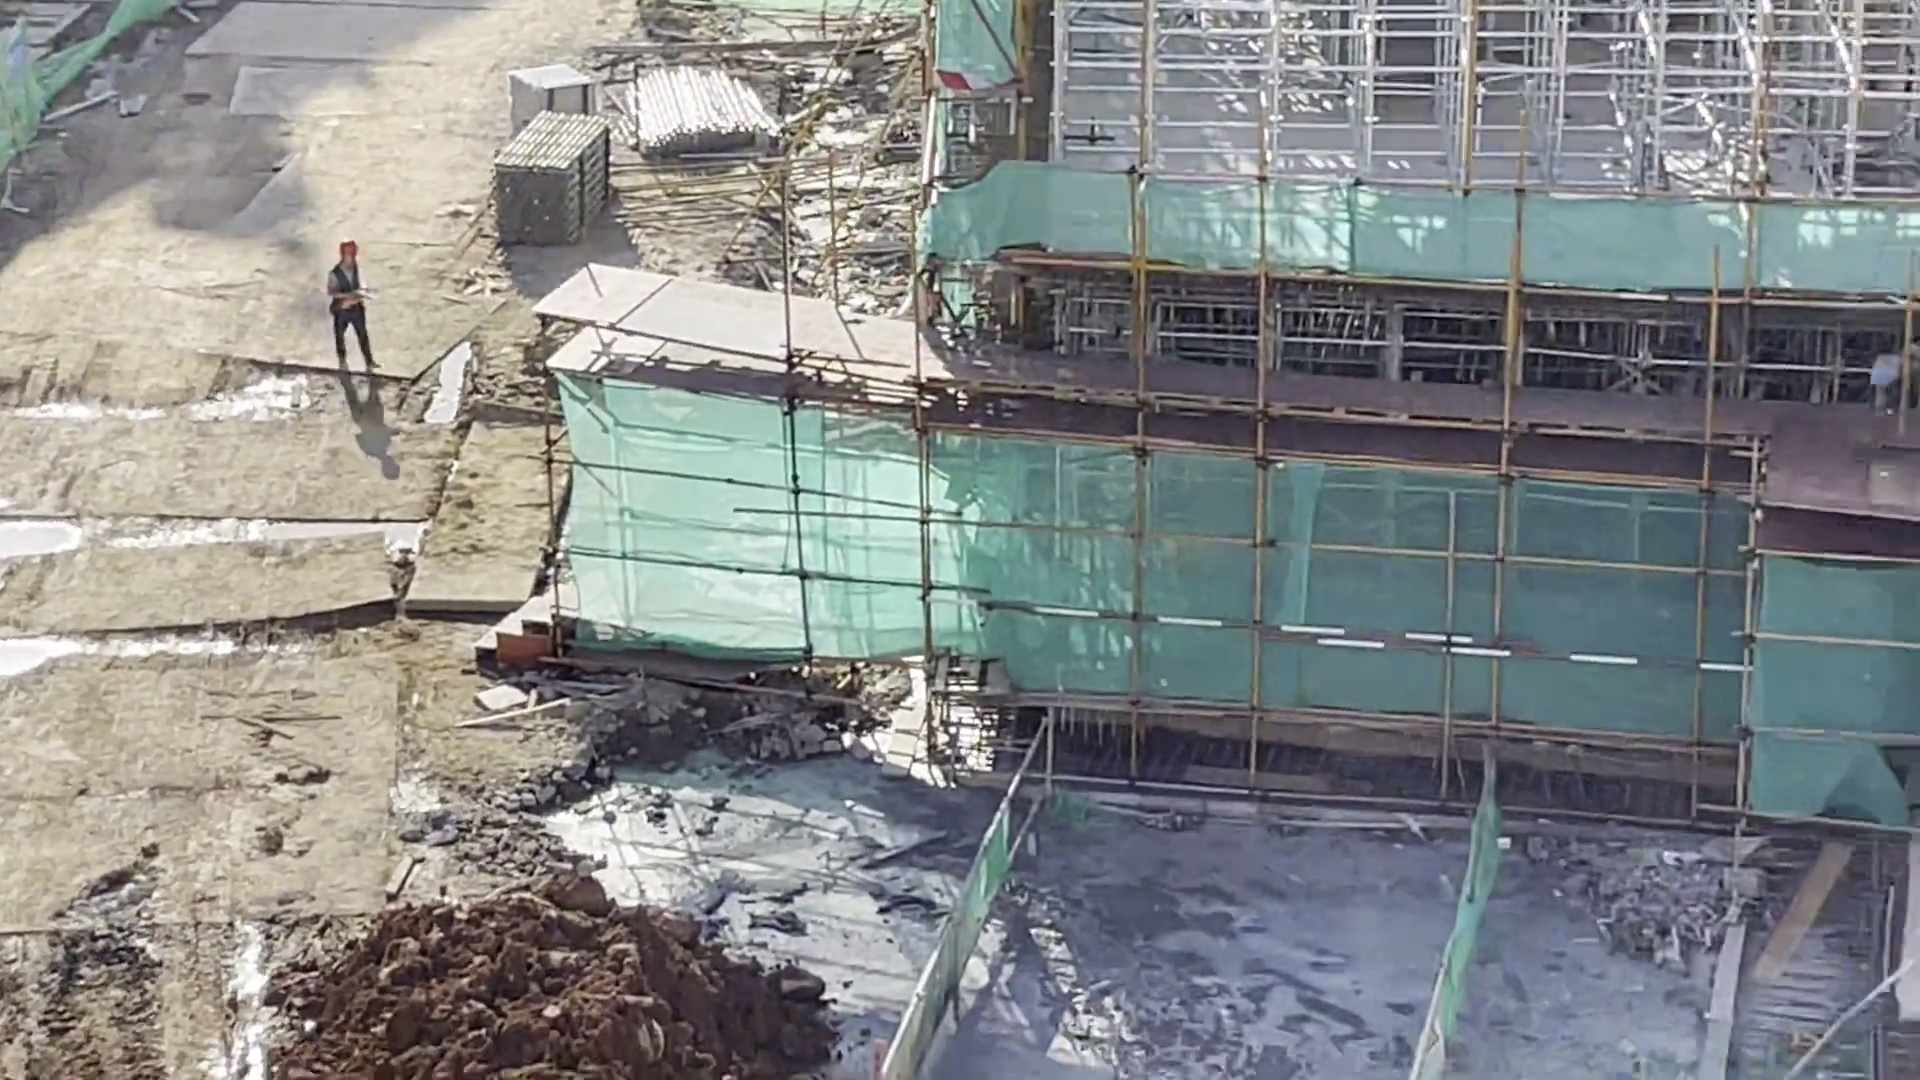helmet: (338, 240, 365, 261)
person: (325, 240, 390, 374)
scaffold: (491, 102, 617, 241), (624, 61, 766, 161), (506, 64, 595, 111)
